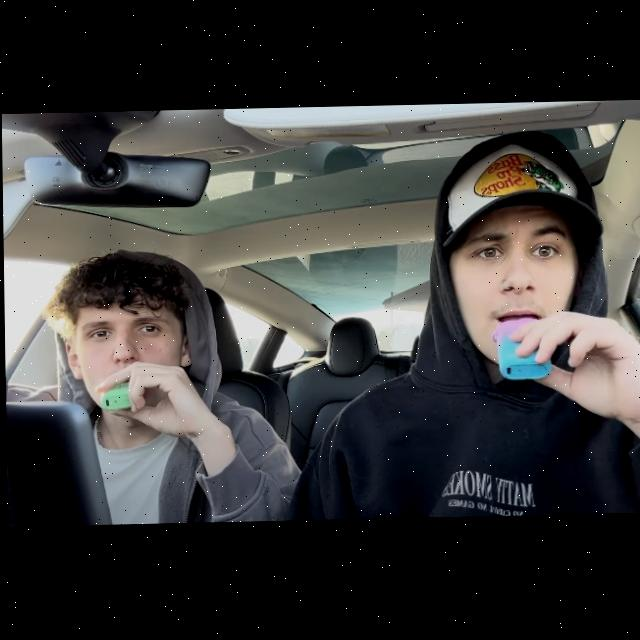vape: (490, 317, 550, 383), (98, 381, 129, 411)
